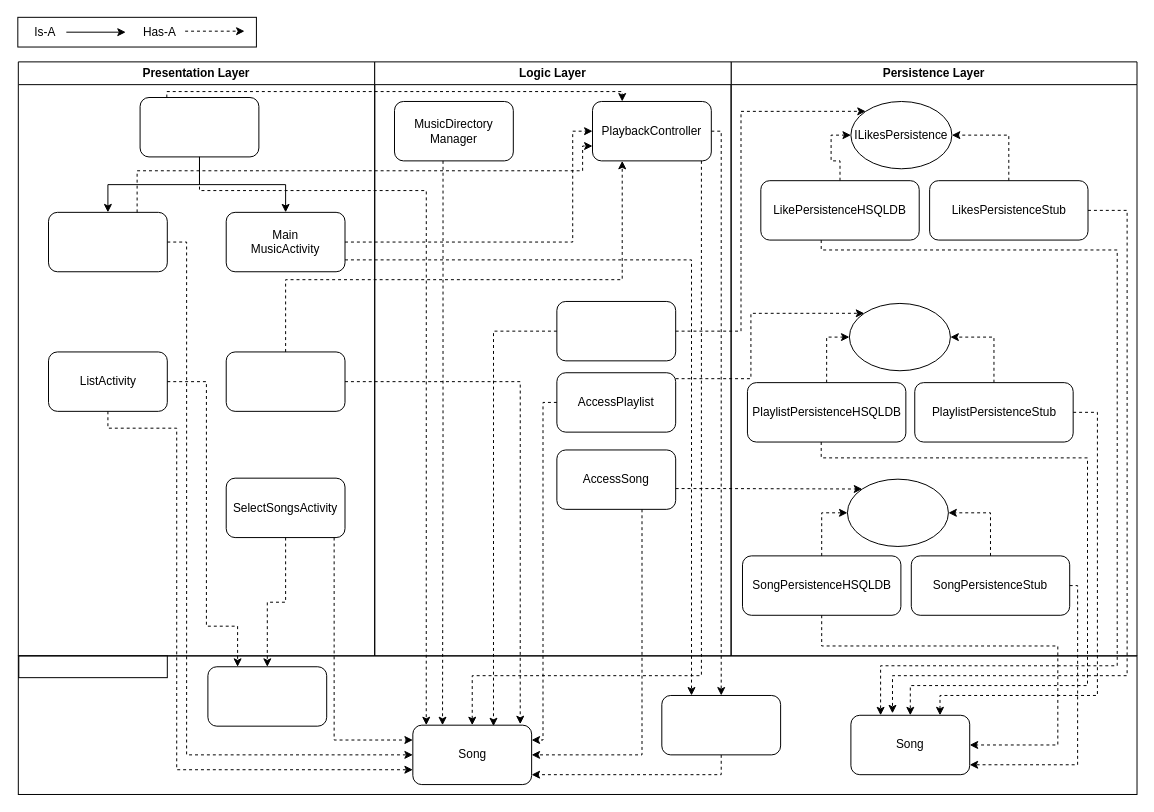
The diagram is 1154 pixels wide and 812 high, and some of its shapes have lost their labels. Here are the shapes that lost their labels. From the top down, the centre of each, then its label:
At point 199,127: "Common MusicActivity".
At point 107,241: "NowPlaying MusicActivity".
At point 616,330: "AccessLikes".
At point 899,336: "IPlaylistPersistence".
At point 285,381: "SearchActivity".
At point 897,512: "ISongPersistence".
At point 92,666: "Domain Specific Objects".
At point 267,696: "Library".
At point 721,724: "PlaybackQueue".
